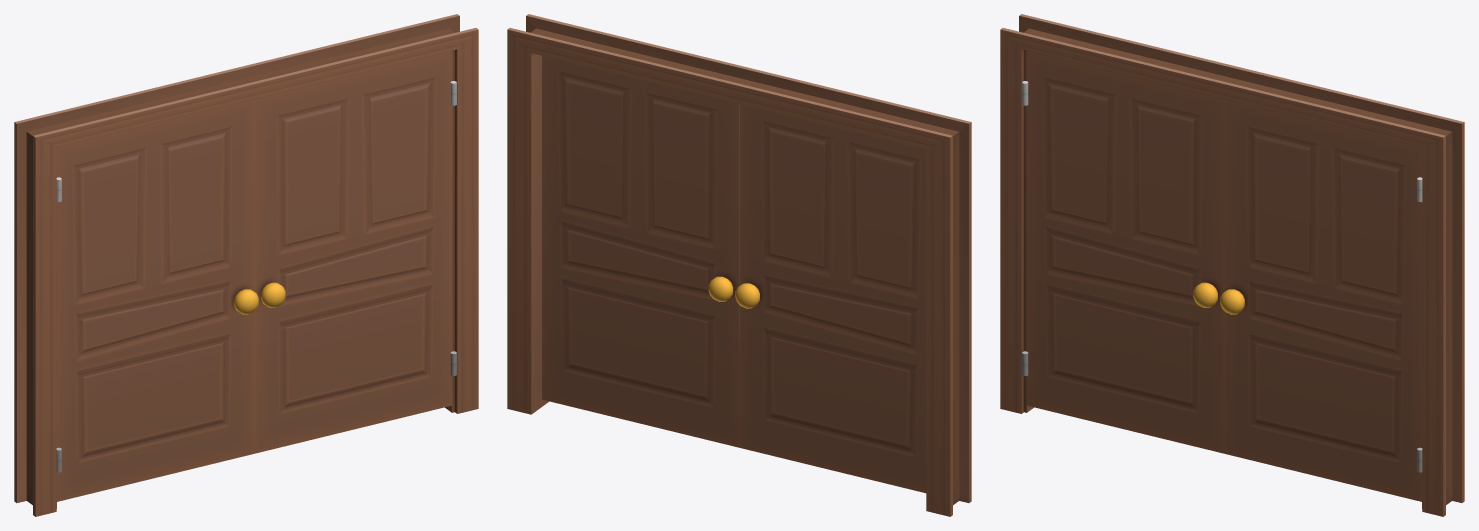
Rendered from PropDoor04TypeB.FBX.
The picture shows the model from 3 angles, left to right: view 1: azimuth 30°, elevation 25°; view 2: azimuth 150°, elevation 25°; view 3: azimuth 330°, elevation 25°; orthographic projection.
Visible parts, largest first — view 1: DoorR, DoorL, FrameB; view 2: DoorR, DoorL, FrameB; view 3: DoorL, DoorR, FrameB.
Boxes of the visible parts, x1,y1,x2,y2 form: DoorR: (254,51,456,453); DoorL: (56,99,258,501); FrameB: (14,14,478,516); DoorR: (542,55,739,447); DoorL: (735,104,926,493); FrameB: (507,14,971,516); DoorL: (1022,51,1224,453); DoorR: (1220,99,1422,501); FrameB: (1000,14,1464,516).
Size of what is drawn, in the model's own units: 3.14 by 2.57 by 0.3577.
